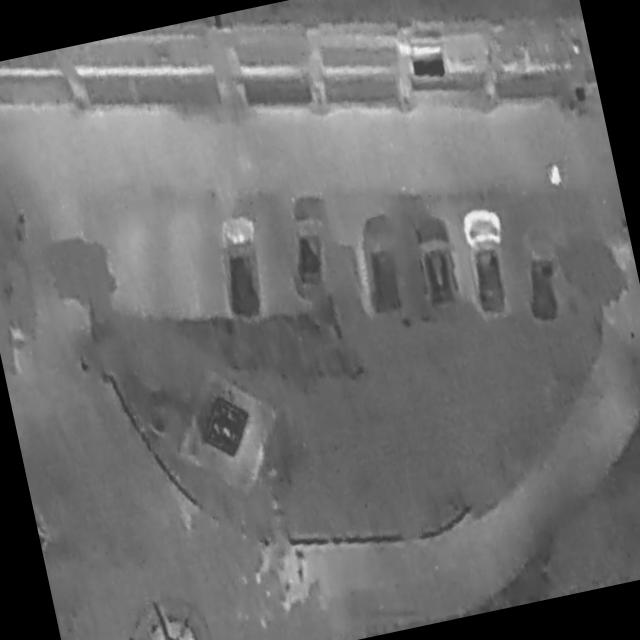person: (544, 160, 567, 192)
